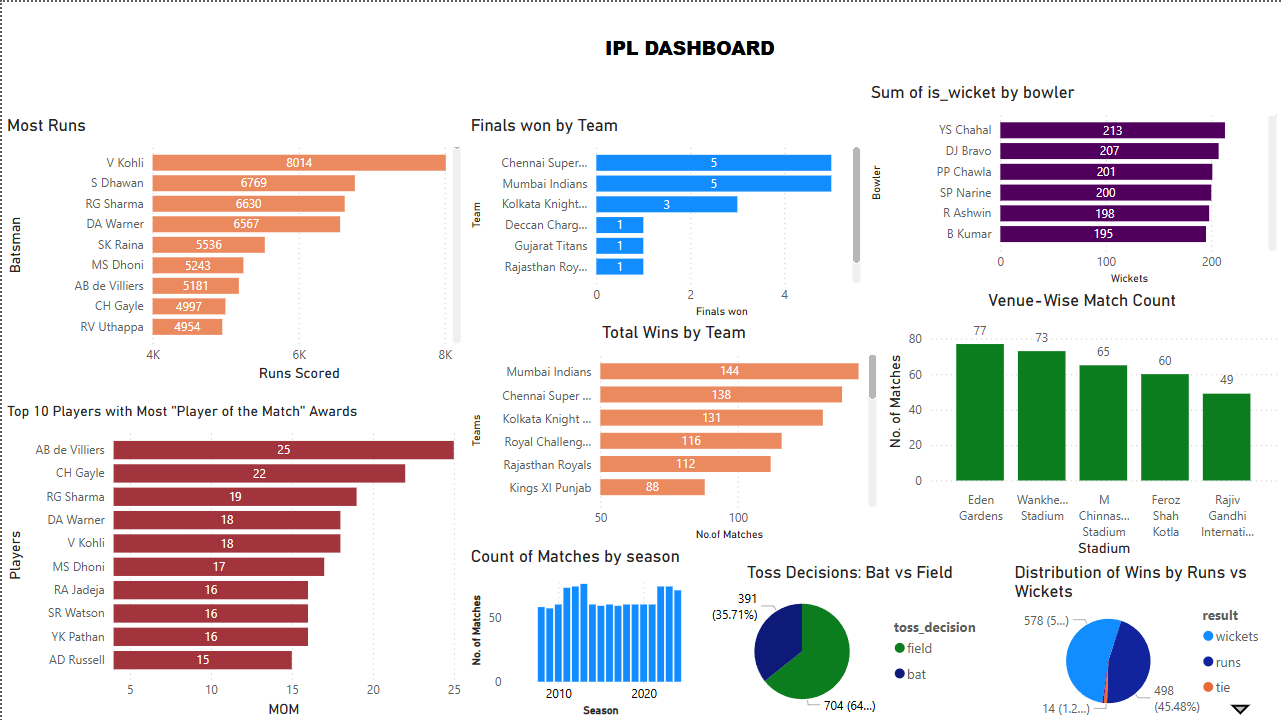

This screenshot's page, from the dashboard's own definition file:
{"tool":"powerbi","page":{"name":"Page 1","canvas":[1280,720],"ordinal":0},"visuals":[{"type":"columnChart","title":"Count of Matches by season","fields":{"Category":["matches.season"],"Y":["matches.id"]},"box":[464,544,240,176],"z":0},{"type":"barChart","title":"Top 10 Players with Most \"Player of the Match\" Awards","fields":{"Category":["matches.player_of_match"],"Y":["matches.player_of_match"]},"box":[0,400,464,320],"z":1000},{"type":"pieChart","title":"Toss Decisions: Bat vs Field","fields":{"Category":["matches.toss_decision"],"Y":["matches.toss_decision"]},"box":[704,560,288,160],"z":2000},{"type":"clusteredBarChart","title":"Total Wins by Team","fields":{"Category":["matches.winner"],"Y":["matches.winner"]},"box":[464,320,416,224],"z":3000},{"type":"pieChart","title":"Distribution of Wins by Runs vs Wickets","fields":{"Y":["matches.Win_type"],"Category":["matches.result"]},"box":[1008,560,272,160],"z":4000},{"type":"columnChart","title":"Venue-Wise Match Count","fields":{"Category":["matches.venue"],"Y":["matches.id"]},"box":[880,288,400,272],"z":5000},{"type":"barChart","title":"Most Runs ","fields":{"Category":["deliveries.batter"],"Y":["deliveries.batsman_runs"]},"box":[0,112,464,272],"z":6000},{"type":"barChart","fields":{"Category":["deliveries.bowler"],"Y":["deliveries.is_wicket"]},"box":[864,80,416,208],"z":7000},{"type":"clusteredBarChart","fields":{"Y":["matches.match_type"],"Category":["matches.winner"]},"box":[464,112,400,208],"z":8000},{"type":"textbox","title":"IPL DASHBOARD","box":[560,0,192,32],"z":8001}]}

Visuals, with their boxes in screenshot pixels (x1, y1, x2, y2), scaled from the page's 1280x720 canvas onto the 1282x720 screenshot:
"Count of Matches by season" columnChart: 465,544,705,719
"Top 10 Players with Most "Player of the Match" Awards" barChart: 0,400,465,719
"Toss Decisions: Bat vs Field" pieChart: 705,560,994,719
"Total Wins by Team" clusteredBarChart: 465,320,881,544
"Distribution of Wins by Runs vs Wickets" pieChart: 1010,560,1281,719
"Venue-Wise Match Count" columnChart: 881,288,1281,560
"Most Runs " barChart: 0,112,465,384
barChart - deliveries.bowler x deliveries.is_wicket: 865,80,1281,288
clusteredBarChart - matches.match_type x matches.winner: 465,112,865,320
"IPL DASHBOARD" textbox: 561,0,753,32
